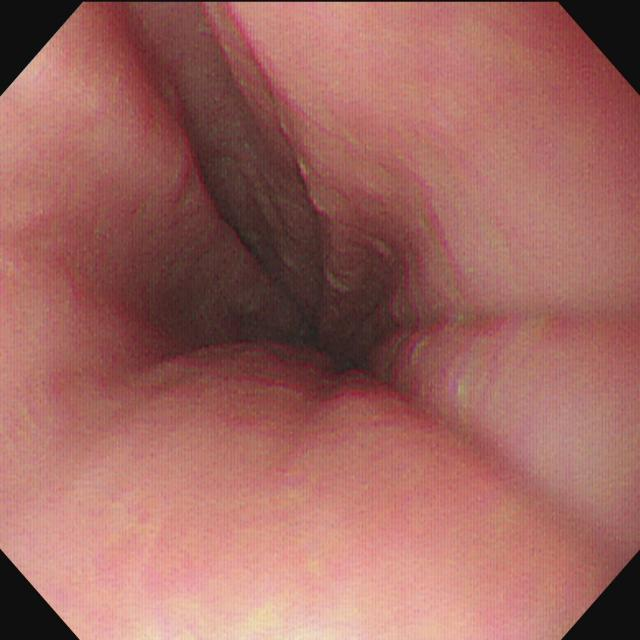I: (207, 203, 423, 419)
